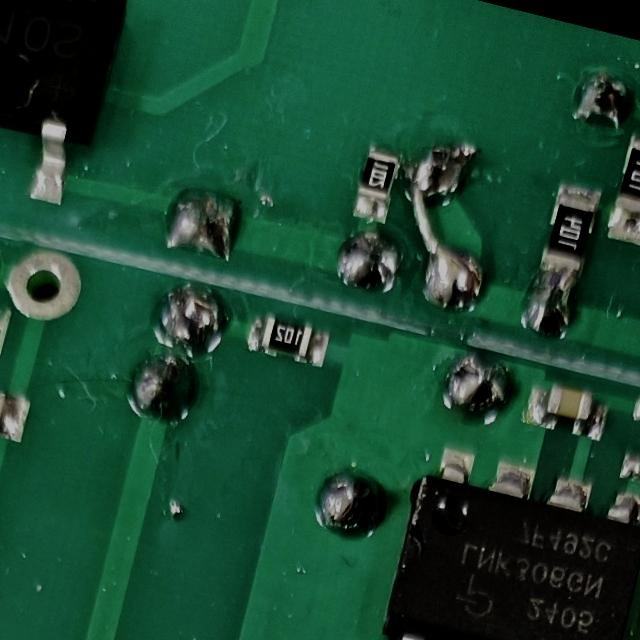chip-capacitor: (519, 375, 616, 445)
chip-resistor: (533, 178, 604, 285), (241, 306, 335, 371), (347, 139, 408, 230), (599, 126, 640, 251)
ic: (354, 437, 640, 640), (0, 0, 139, 221)
